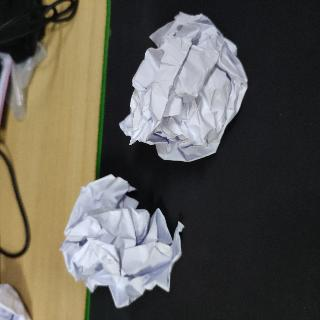8/可回收垃圾/纸: (117, 10, 249, 163), (57, 173, 185, 311)
